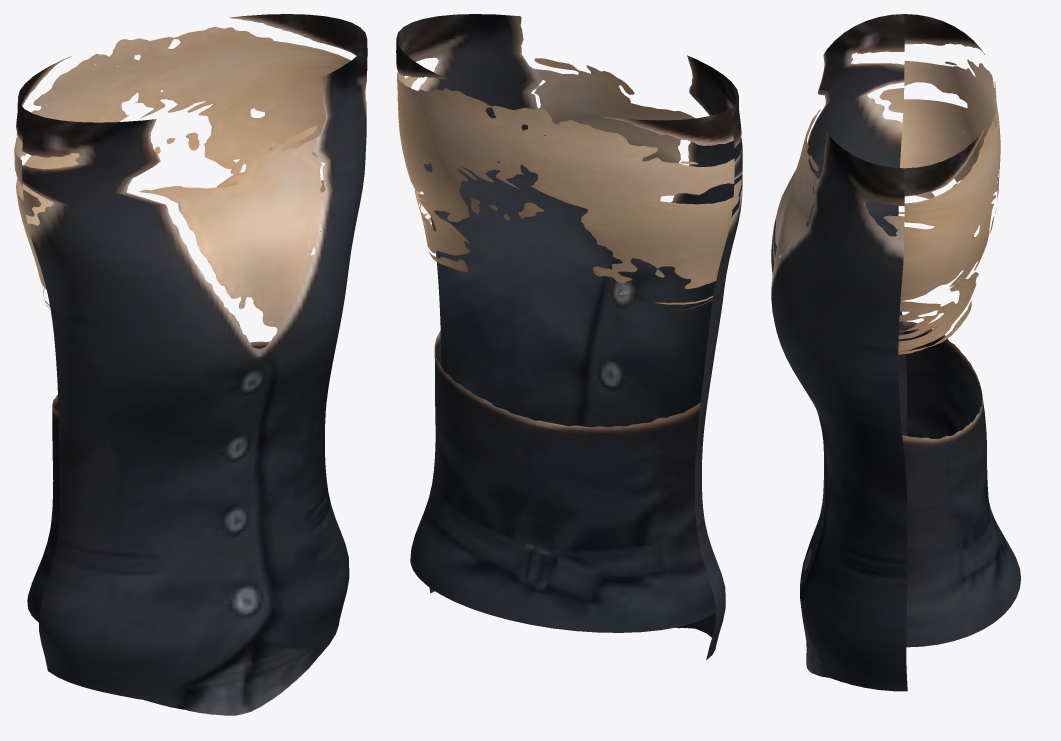
The model's file is prod-ae-noir-halter-vest.glb.
The picture shows the model from 3 angles, left to right: view 1: azimuth 30°, elevation 25°; view 2: azimuth 150°, elevation 25°; view 3: azimuth 270°, elevation 25°; orthographic projection. The views are drawn at different scales.
Visible parts, largest first — view 1: prod-ae-noir-halter-vest; view 2: prod-ae-noir-halter-vest; view 3: prod-ae-noir-halter-vest.
Part boxes in pixels (<box>): prod-ae-noir-halter-vest: <box>14,14,367,715</box>; prod-ae-noir-halter-vest: <box>396,14,742,659</box>; prod-ae-noir-halter-vest: <box>771,14,1020,691</box>.
Bounding box in the file's own units: 0.2459 × 0.4215 × 0.1838.
Materials: 1 (1 with a texture image).
